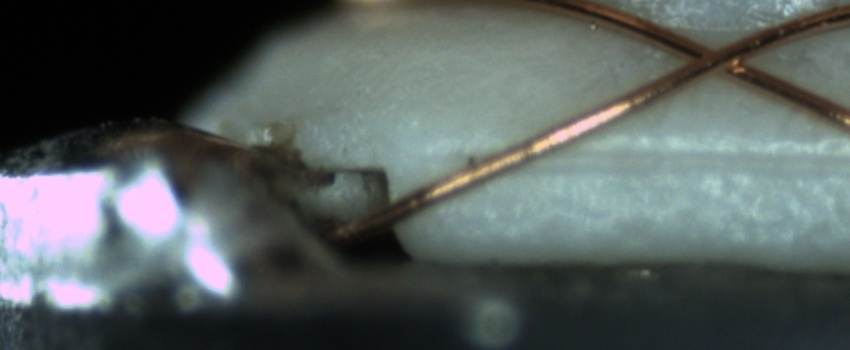CL: (662, 27, 765, 85)
DL: (480, 128, 850, 192)
